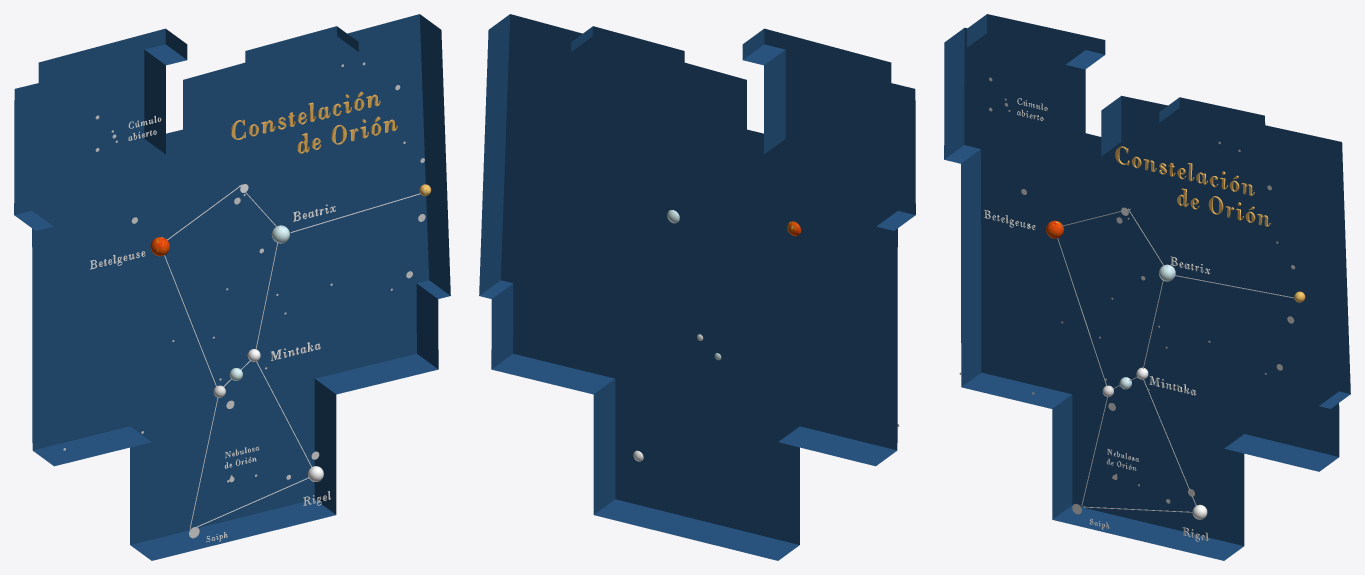
The model's file is Orion2.gltf.
The picture shows the model from 3 angles, left to right: view 1: azimuth 30°, elevation 25°; view 2: azimuth 150°, elevation 25°; view 3: azimuth 330°, elevation 25°; orthographic projection. The views are drawn at different scales.
Parts seen in each view (by area): view 1: Cubo, Texto.002, Texto; view 2: Cubo; view 3: Cubo, Texto.002, Texto.
Boxes of the visible parts, left/top/right/bottom form: Cubo: left=14, top=14, right=450, bottom=560; Texto.002: left=230, top=91, right=380, bottom=139; Texto: left=297, top=116, right=397, bottom=153; Cubo: left=479, top=14, right=915, bottom=560; Cubo: left=944, top=14, right=1350, bottom=560; Texto.002: left=1115, top=146, right=1254, bottom=195; Texto: left=1177, top=188, right=1270, bottom=226.
Bounding box in the file's own units: 13.05 × 15.26 × 1.61.
Materials: 10 (5 with a texture image).
